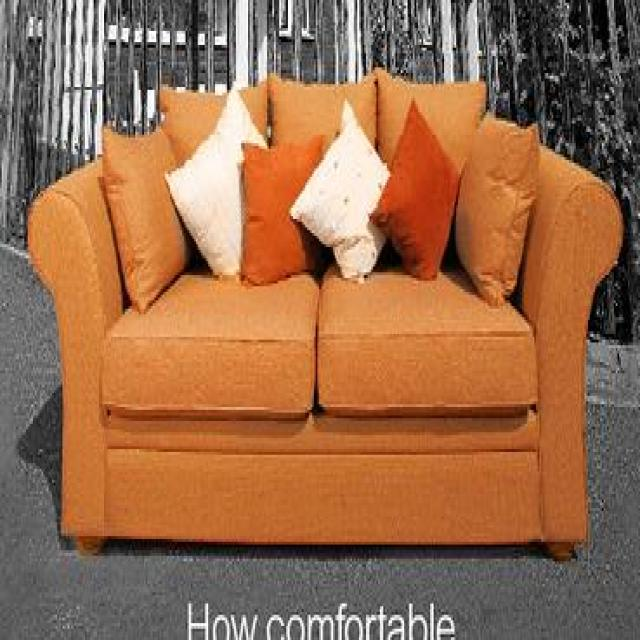sofa: (24, 64, 623, 558)
